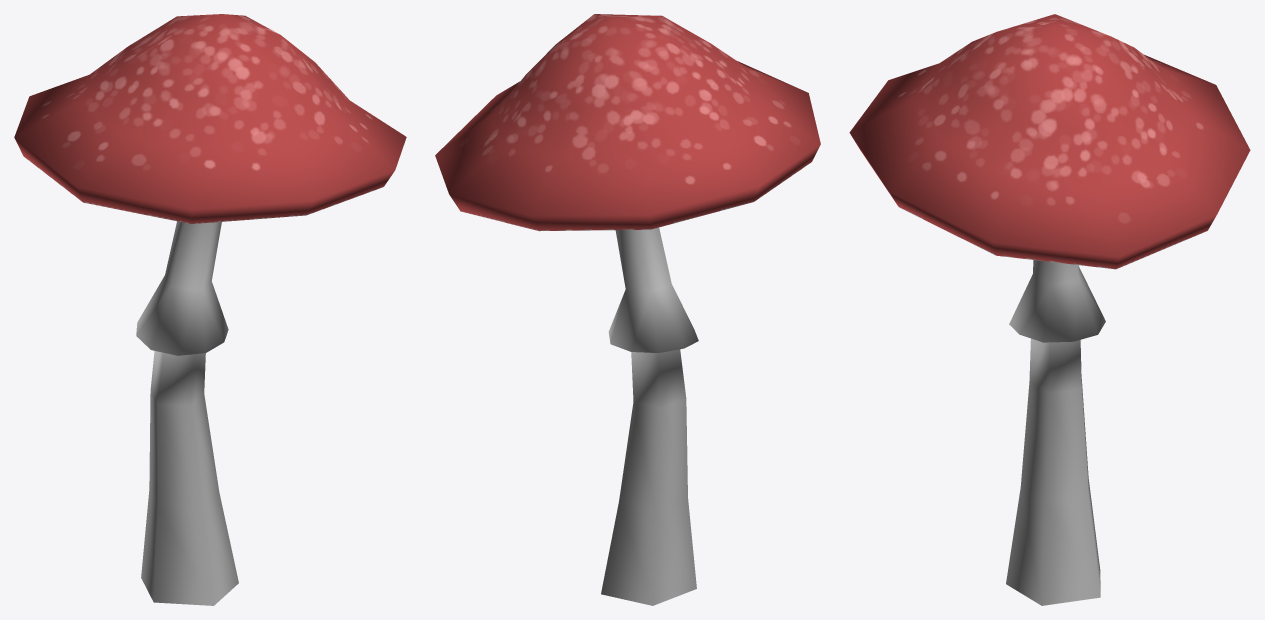
3 renders of one model, left to right at view 1: azimuth 30°, elevation 25°; view 2: azimuth 150°, elevation 25°; view 3: azimuth 270°, elevation 25°, orthographic. The views are drawn at different scales.
Visible parts, largest first — view 1: submesh_0; view 2: submesh_0; view 3: submesh_0.
Boxes of the visible parts, x1,y1,x2,y2 form: submesh_0: (14,14,406,605); submesh_0: (435,14,820,605); submesh_0: (849,14,1250,605).
Bounding box in the file's own units: 0.2861 × 0.4693 × 0.297.
1 material, 1 textured.
